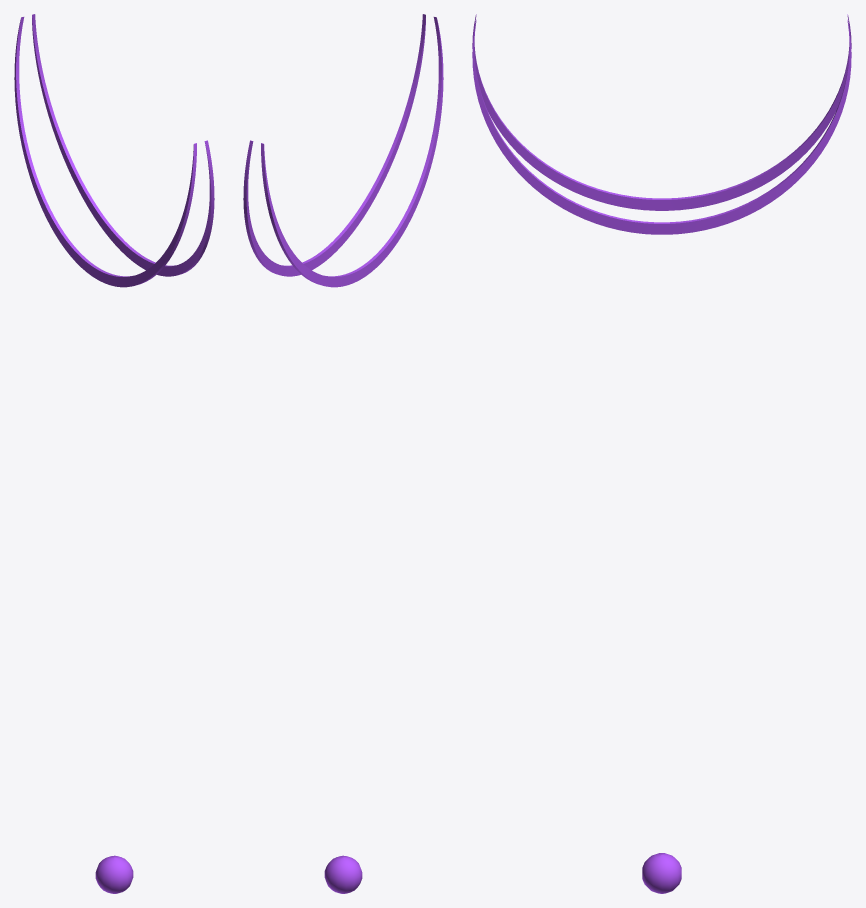
The model's file is CrownGem.obj.
The picture shows the model from 3 angles, left to right: view 1: azimuth 30°, elevation 25°; view 2: azimuth 150°, elevation 25°; view 3: azimuth 270°, elevation 25°; orthographic projection. The views are drawn at different scales.
Visible parts, largest first — view 1: CrownGem; view 2: CrownGem; view 3: CrownGem.
Boxes of the visible parts, box(x1,y1,x2,y2) form: CrownGem: box(14, 14, 214, 893); CrownGem: box(243, 14, 443, 893); CrownGem: box(472, 14, 851, 893).
Bounding box in the file's own units: 0.17 × 2.71 × 1.06.
